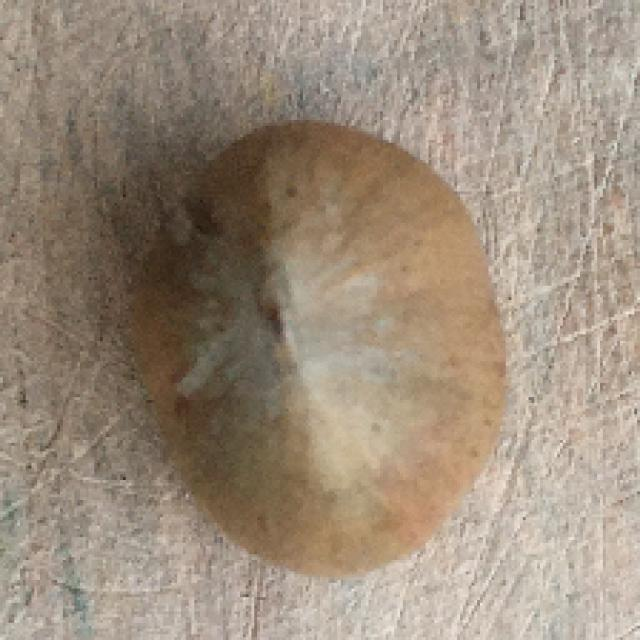qualityHazelnut: (125, 119, 502, 584)
